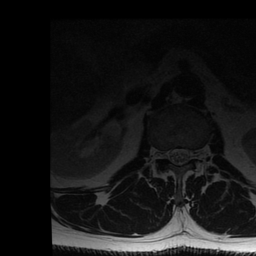CCS_normal: (176, 138, 184, 173)
LFS_normal: (192, 141, 200, 167)
LLS_normal: (184, 140, 192, 170)
RFS_normal: (159, 140, 167, 167)
RLS_normal: (167, 140, 176, 169)
